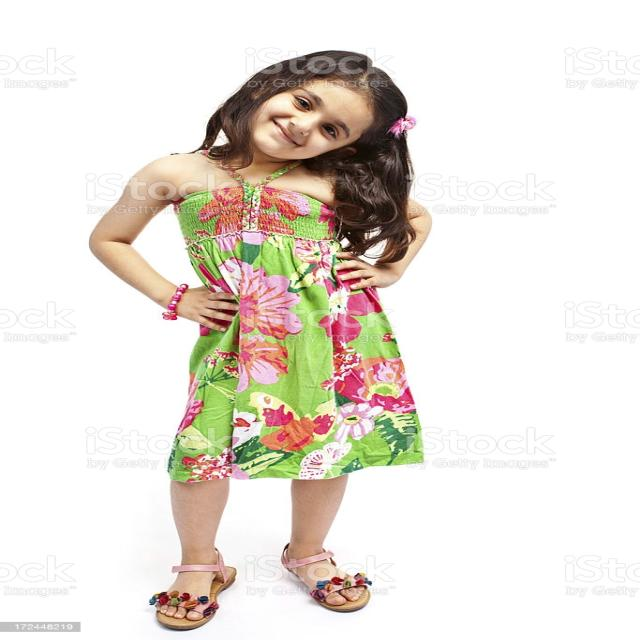child: (73, 44, 438, 632)
